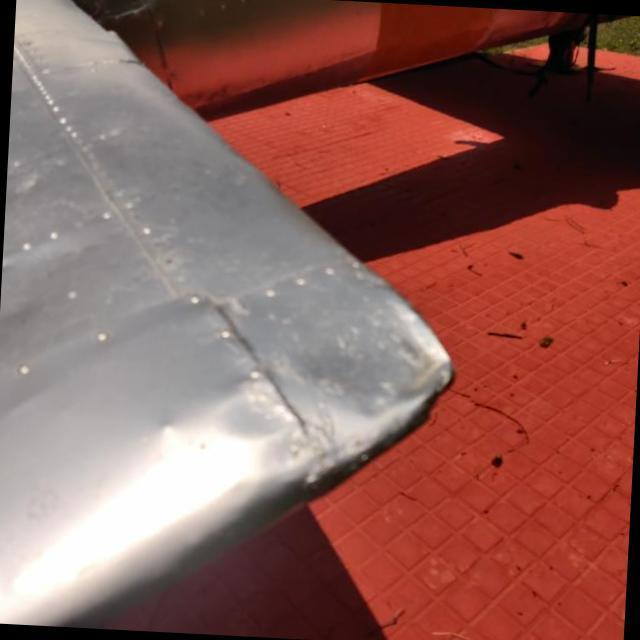dent: (296, 260, 449, 440), (202, 371, 296, 445)
